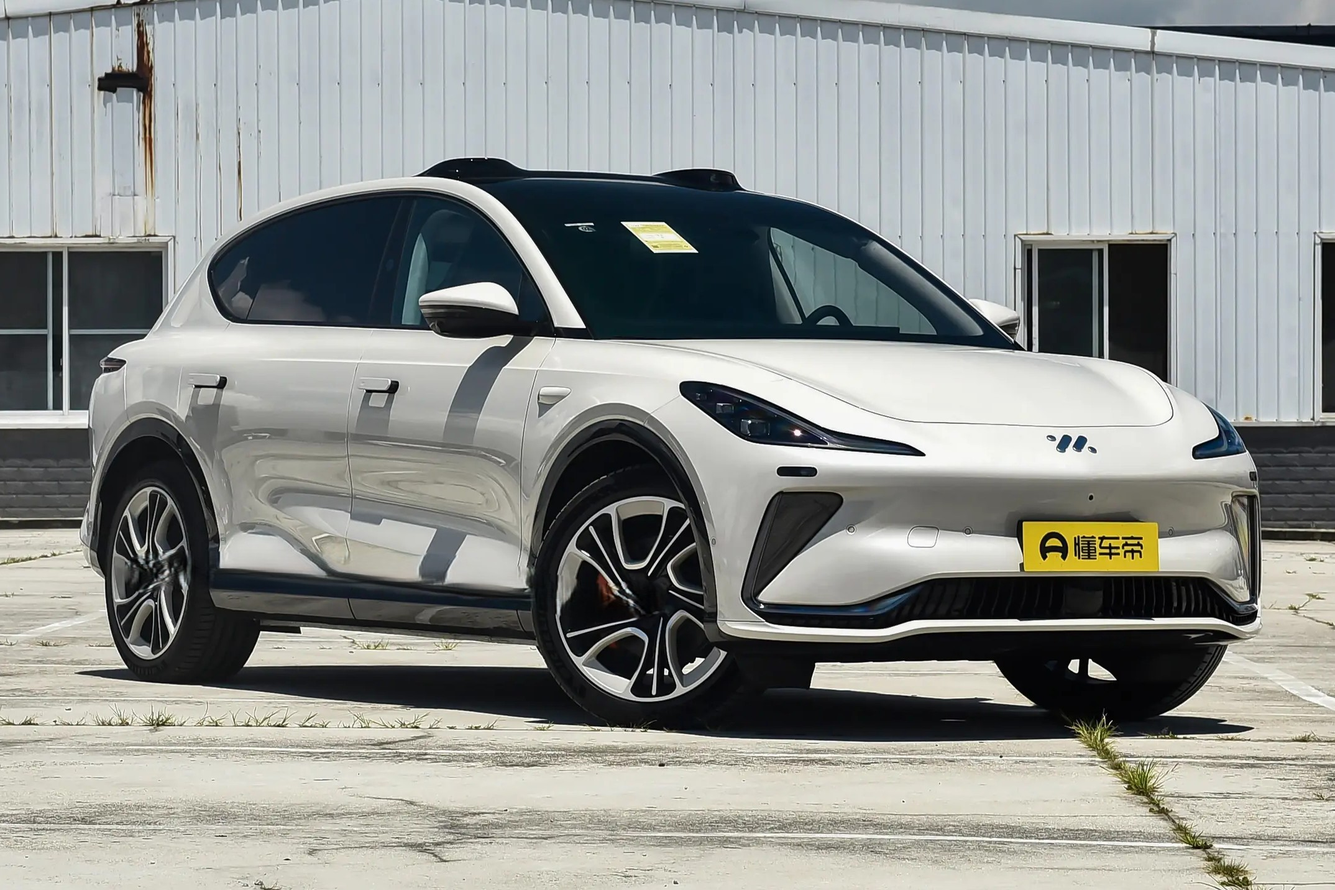IM: (1047, 434, 1098, 453)
